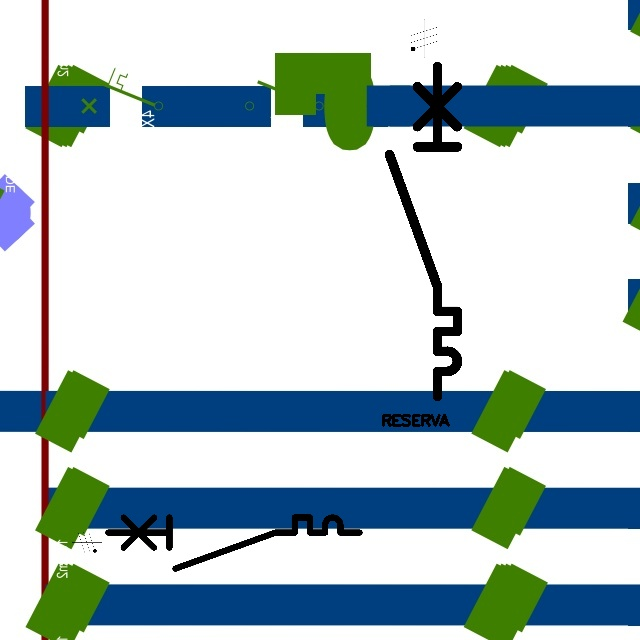interruptor_termomagnetico: (381, 58, 466, 405), (101, 511, 365, 575)
